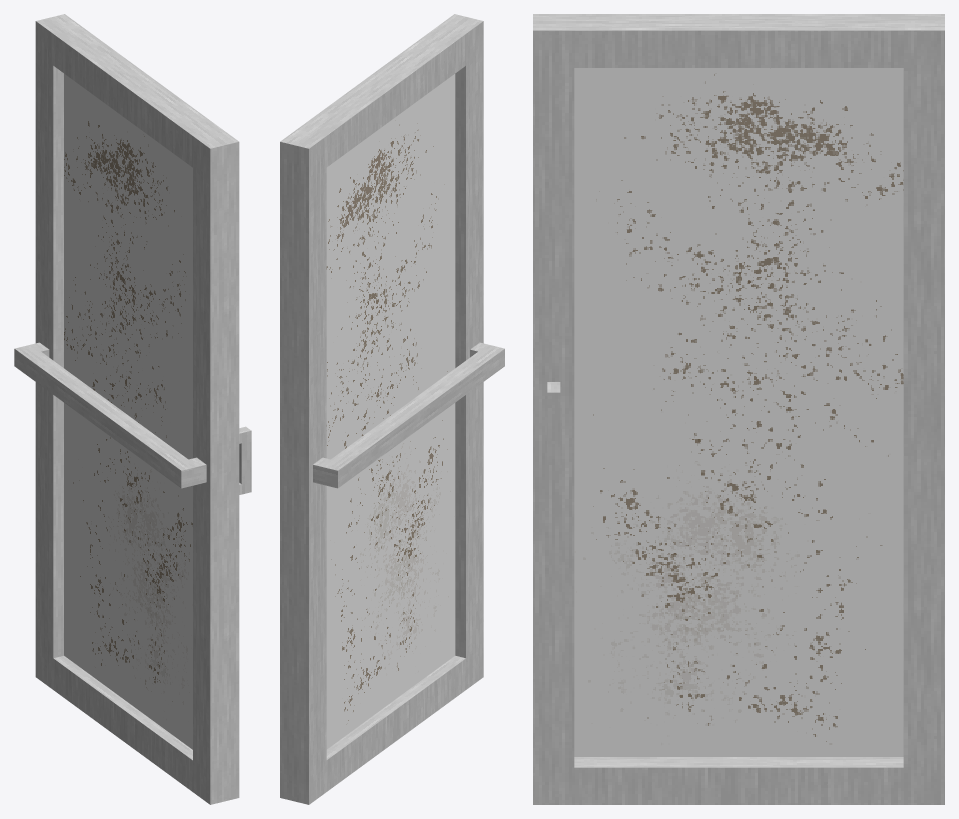
Rendered from door_exterior_l.glb.
3 views of the same model, side by side, from view 1: azimuth 30°, elevation 25°; view 2: azimuth 150°, elevation 25°; view 3: azimuth 270°, elevation 25° (orthographic). The views are drawn at different scales.
Visible parts, largest first — view 1: Cube.001; view 2: Cube.001; view 3: Cube.001.
Part boxes in pixels (box(x1,y1,x2,y2)): Cube.001: box(14, 14, 251, 804); Cube.001: box(280, 14, 504, 804); Cube.001: box(533, 14, 944, 804).
Bounding box in the file's own units: 0.2393 × 2.08 × 1.
Materials: 2 (2 with a texture image).
